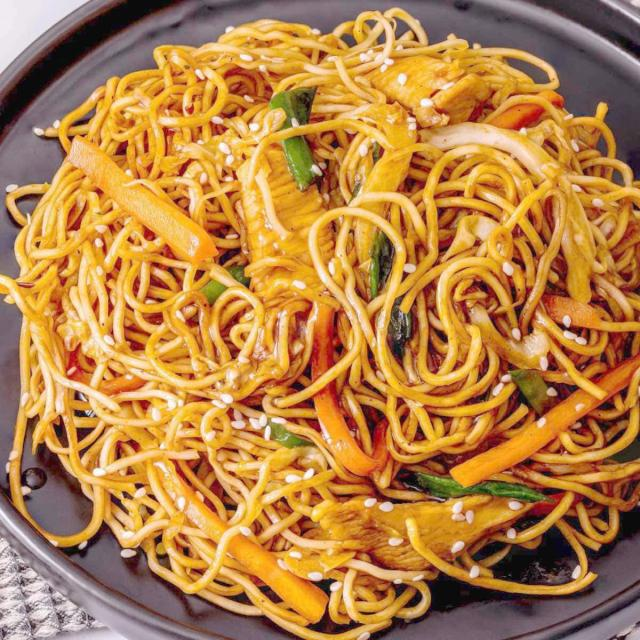Chow Mein: (4, 9, 639, 640)
